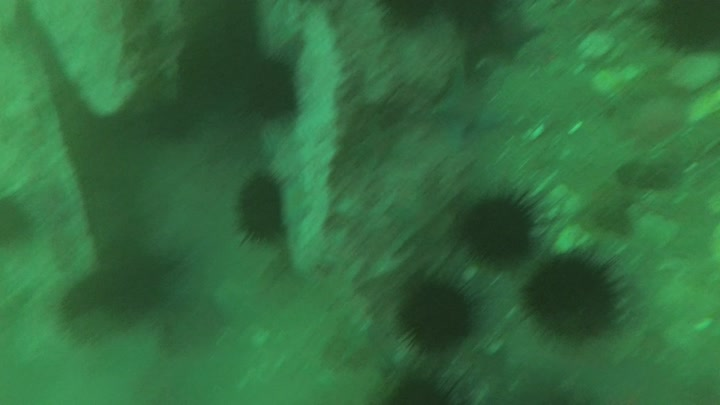echinus: (54, 243, 187, 351), (518, 238, 634, 357), (454, 183, 558, 273), (391, 271, 485, 365), (237, 53, 301, 133), (367, 361, 480, 405), (636, 1, 720, 58), (233, 164, 287, 252), (445, 1, 518, 36), (1, 191, 36, 250), (377, 1, 443, 32)
starfish: (433, 72, 508, 152), (473, 6, 550, 62)
